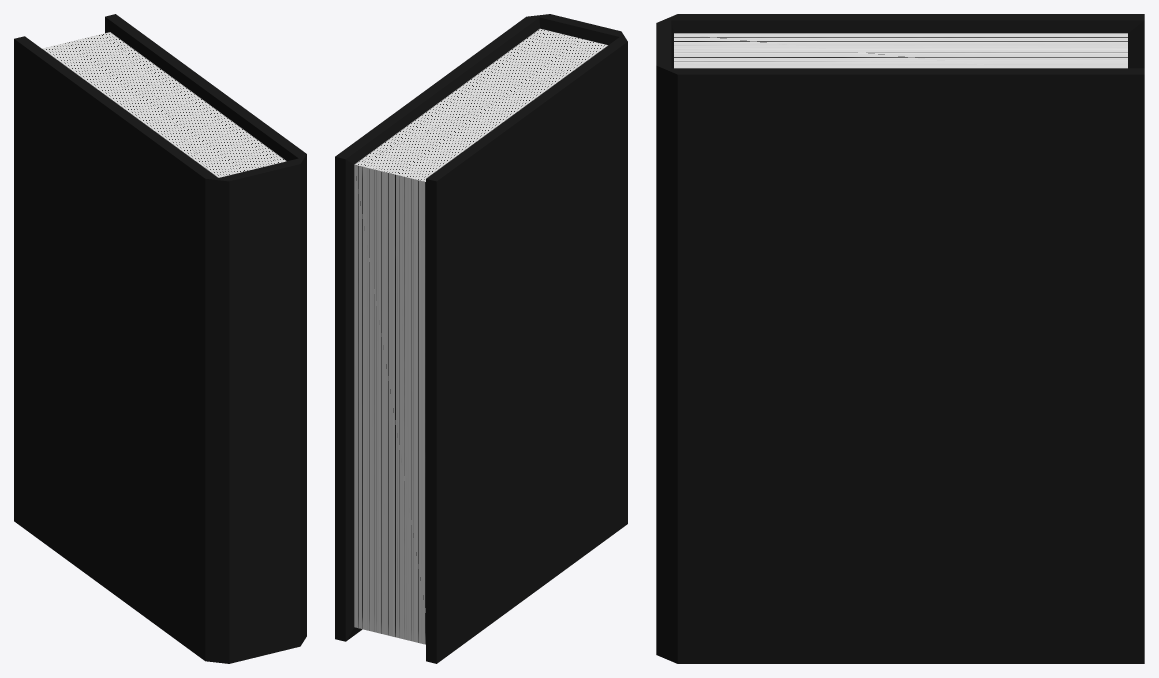
The model's file is Kärpänen_Kirja.fbx.
The picture shows the model from 3 angles, left to right: view 1: azimuth 30°, elevation 25°; view 2: azimuth 150°, elevation 25°; view 3: azimuth 270°, elevation 25°; orthographic projection. The views are drawn at different scales.
Parts seen in each view (by area): view 1: Cube.008; view 2: Cube.008; view 3: Cube.008.
Part boxes in pixels (x1,y1,x2,y2): Cube.008: [14, 14, 306, 663]; Cube.008: [335, 14, 627, 663]; Cube.008: [656, 14, 1144, 663].
Bounding box in the file's own units: 121 × 550 × 413.
2 materials, 1 textured.
